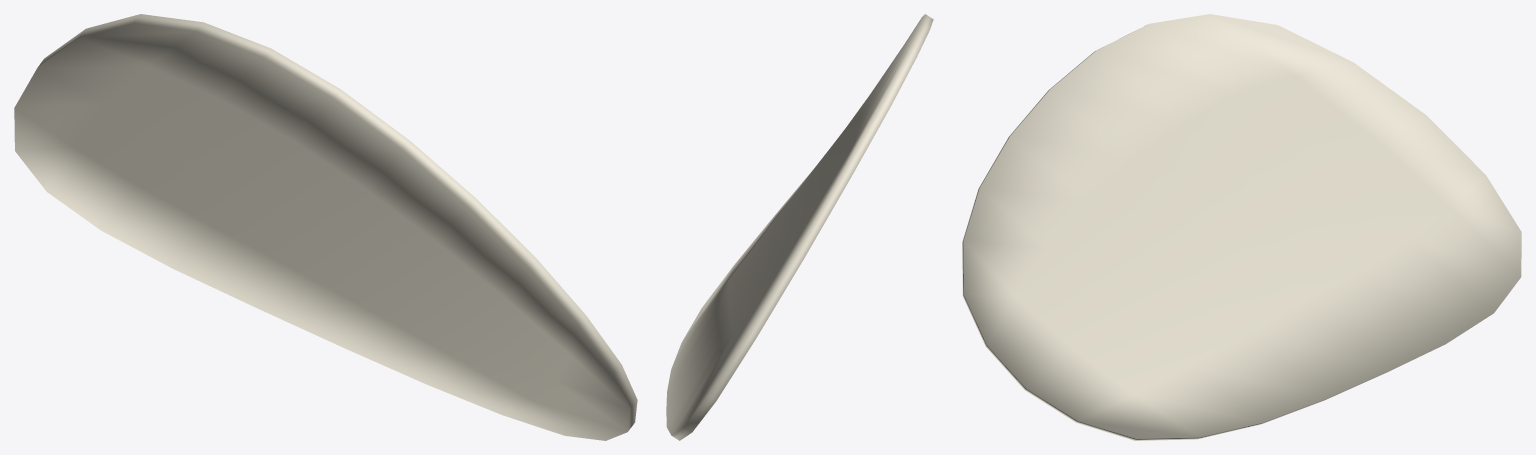
3 renders of one model, left to right at view 1: azimuth 30°, elevation 25°; view 2: azimuth 150°, elevation 25°; view 3: azimuth 270°, elevation 25°, orthographic. The views are drawn at different scales.
Parts seen in each view (by area): view 1: ZA_eb3a5b3df5ad7d73; view 2: ZA_eb3a5b3df5ad7d73; view 3: ZA_eb3a5b3df5ad7d73.
Boxes of the visible parts, left/top/right/bottom form: ZA_eb3a5b3df5ad7d73: left=14, top=14, right=637, bottom=440; ZA_eb3a5b3df5ad7d73: left=666, top=14, right=933, bottom=440; ZA_eb3a5b3df5ad7d73: left=962, top=14, right=1521, bottom=440.
Bounding box in the file's own units: 0.0156 × 0.0199 × 0.031.
